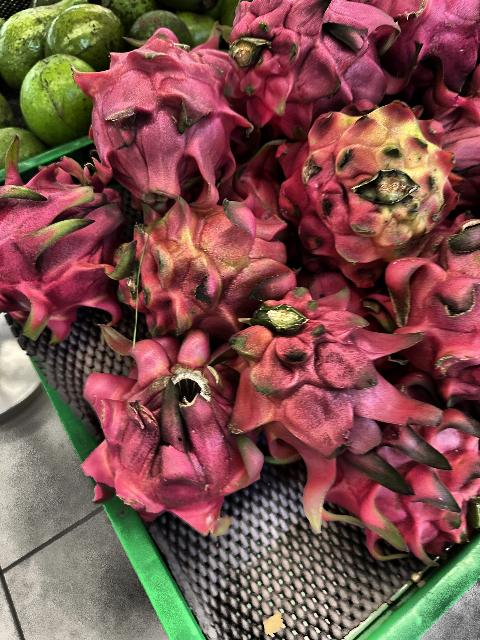buah-naga-belum-matang: (262, 96, 456, 258), (116, 186, 296, 324)
buah-naga-matang: (81, 307, 257, 528), (236, 280, 420, 484), (61, 12, 240, 192), (314, 382, 480, 544), (0, 145, 126, 327), (216, 0, 402, 114), (378, 198, 480, 396), (384, 0, 480, 92)
